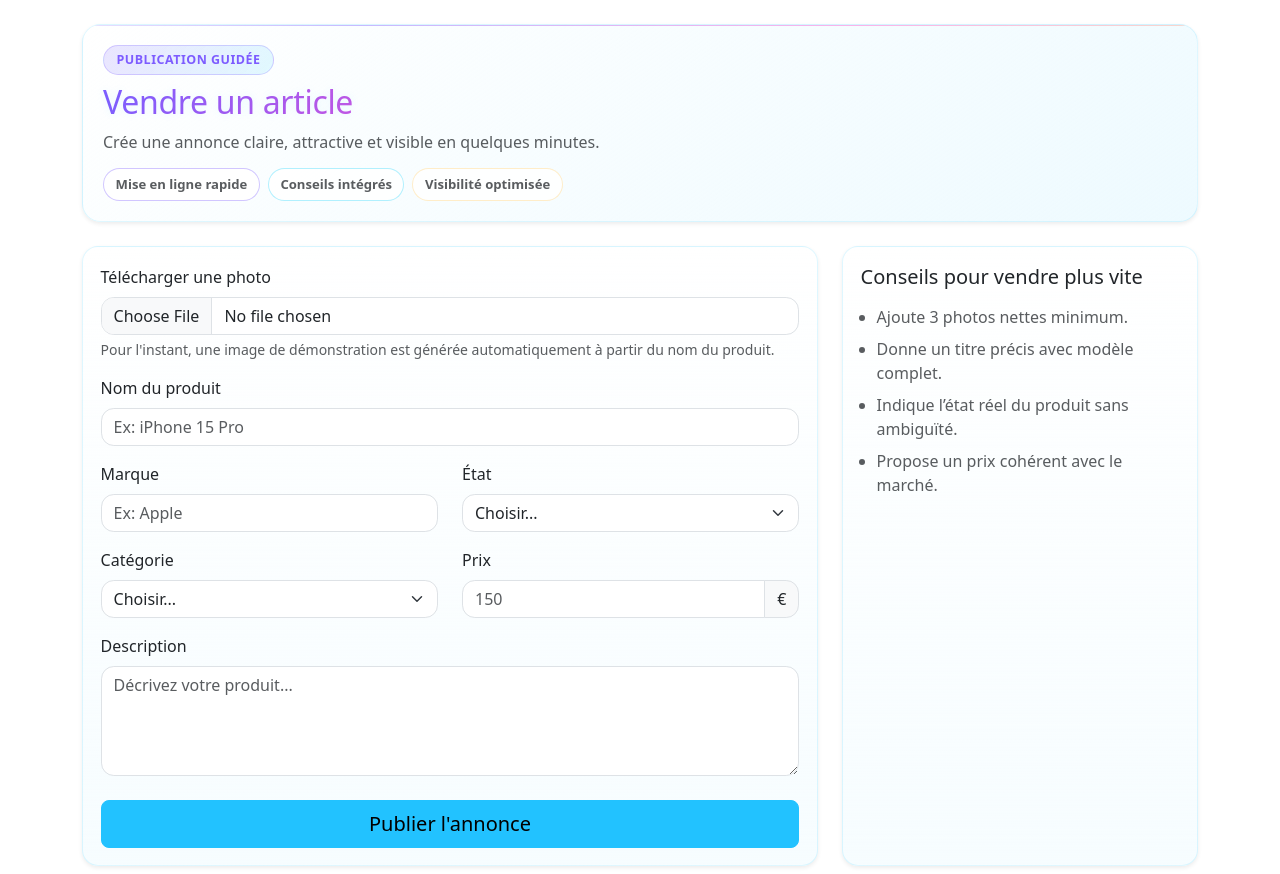
Sell › shows an error when required fields are missing
The image size is (1280, 874).
Click the button "Publier l'annonce". click: {"x": 450, "y": 824}
box: [101,800,799,848]
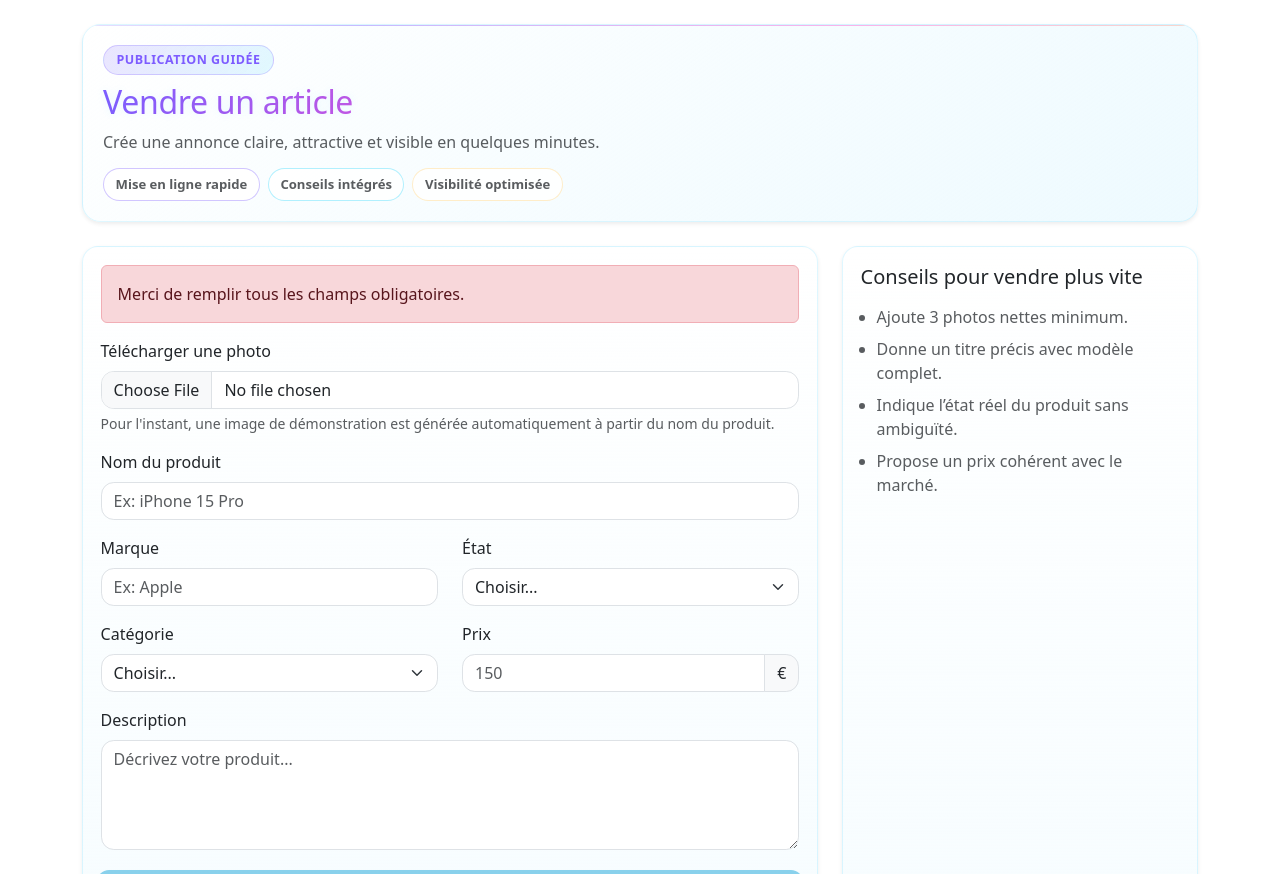
Check: the text "Merci de remplir tous les champs obligatoires." is shown, box [101,265,799,323]
